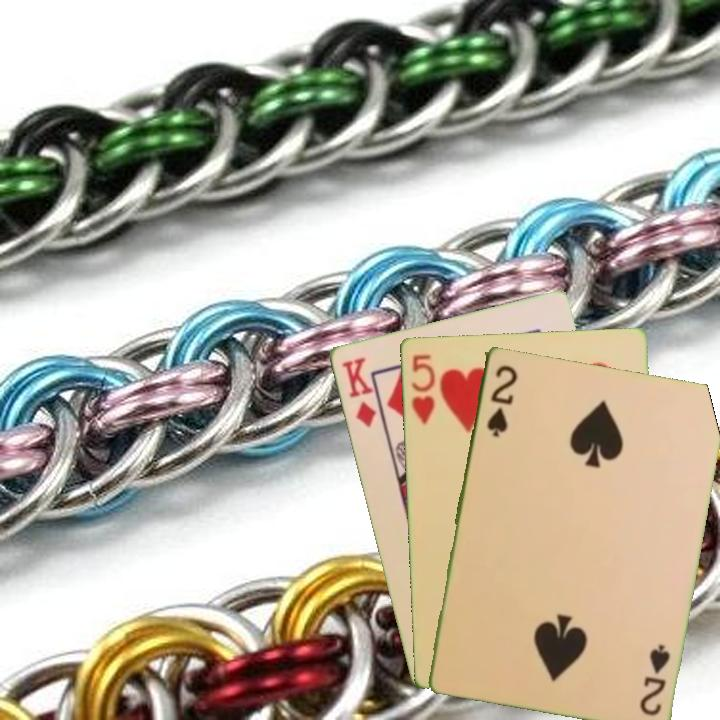2s: (482, 361, 520, 439), (635, 640, 673, 718)
5h: (407, 350, 438, 427)
Kd: (337, 353, 379, 430)
